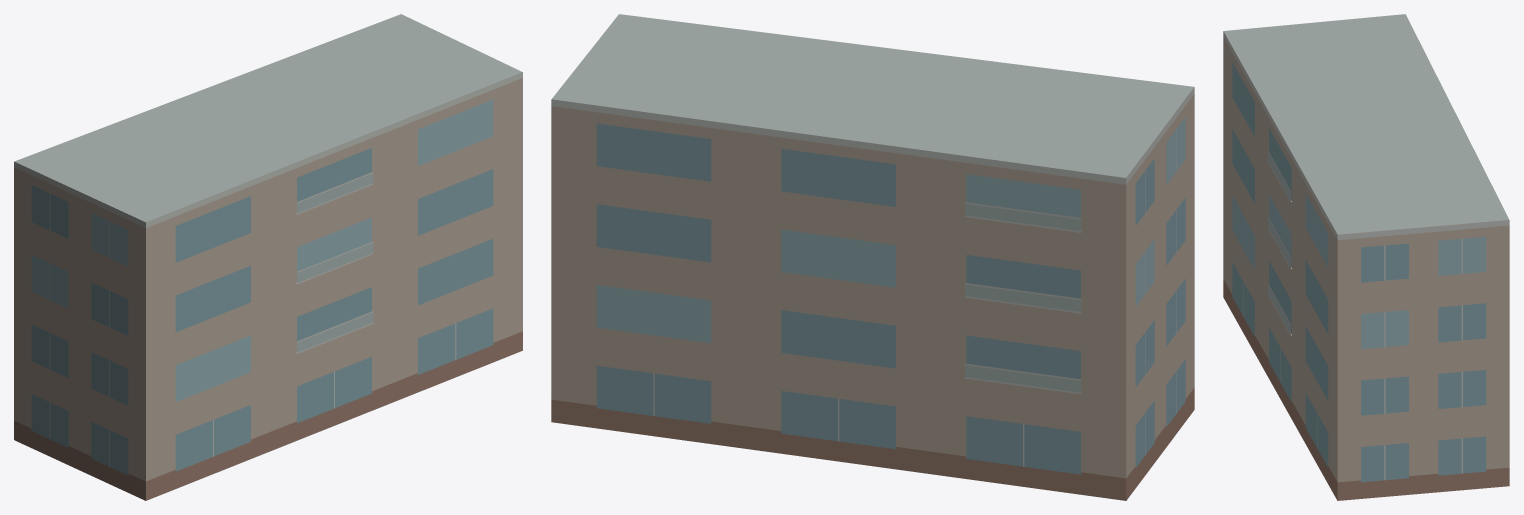
File: survey-upis-32751858.glb
3 renders of one model, left to right at view 1: azimuth 30°, elevation 25°; view 2: azimuth 150°, elevation 25°; view 3: azimuth 270°, elevation 25°, orthographic. The views are drawn at different scales.
Visible parts, largest first — view 1: survey-upis-32751858.tmp; view 2: survey-upis-32751858.tmp; view 3: survey-upis-32751858.tmp.
Boxes of the visible parts, x1,y1,x2,y2 form: survey-upis-32751858.tmp: (14, 14, 522, 500); survey-upis-32751858.tmp: (551, 14, 1194, 500); survey-upis-32751858.tmp: (1223, 14, 1509, 500).
Bounding box in the file's own units: 20.81 × 11.7 × 11.41.
